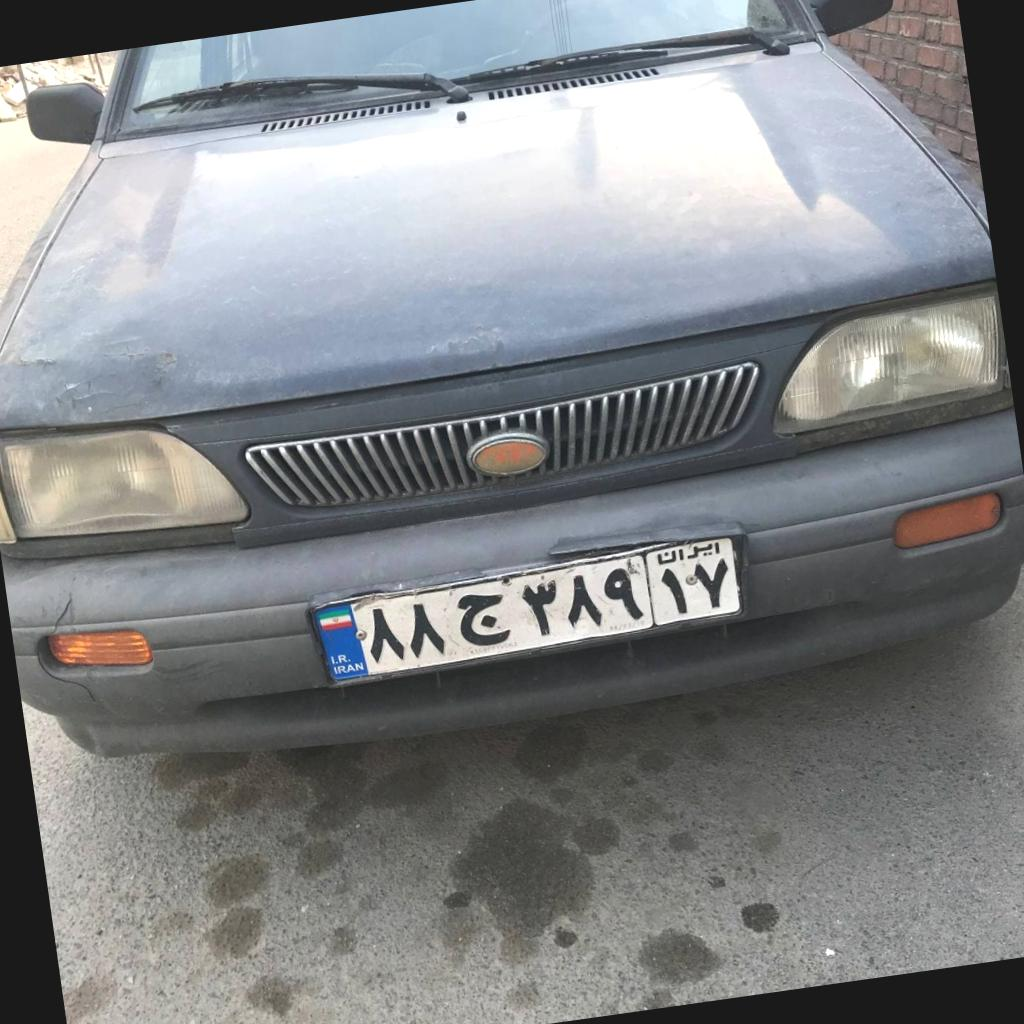Plates: (313, 537, 740, 681)
